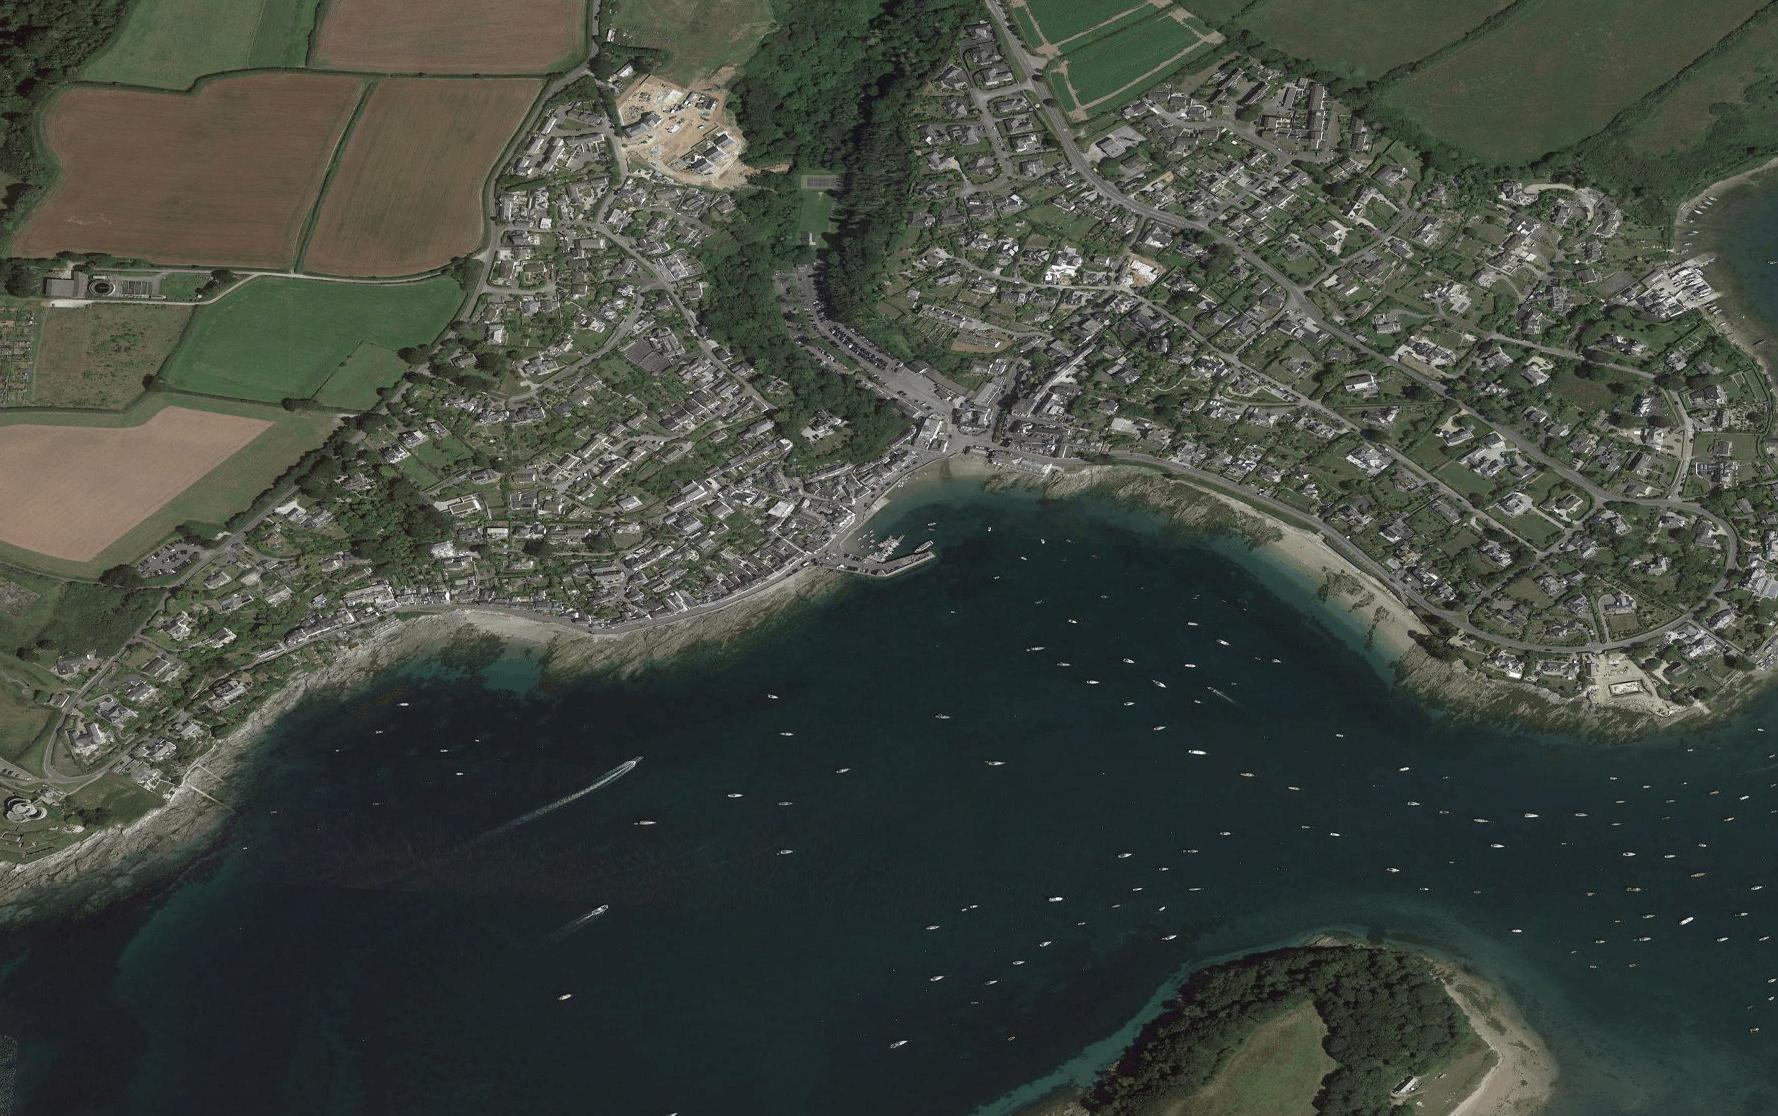harbor: (818, 516, 955, 599)
